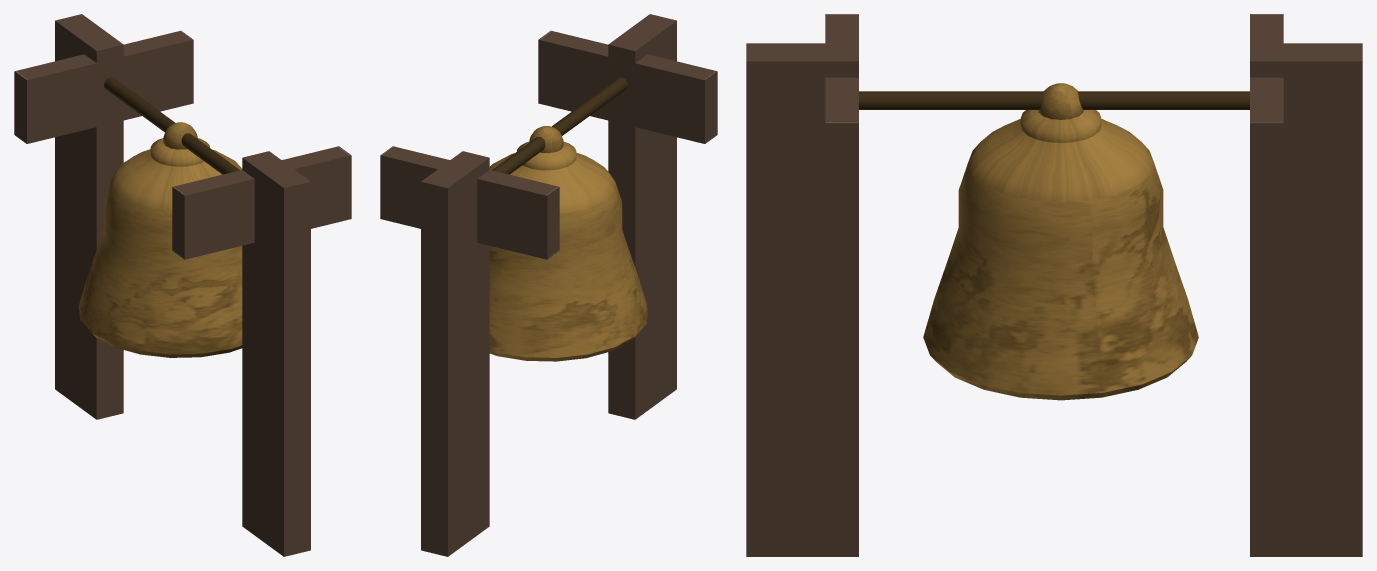
Rendered from BELL 1.obj.
3 renders of one model, left to right at view 1: azimuth 30°, elevation 25°; view 2: azimuth 150°, elevation 25°; view 3: azimuth 270°, elevation 25°, orthographic. The views are drawn at different scales.
Visible parts, largest first — view 1: pCube14_initialShadingGroup; view 2: pCube14_initialShadingGroup; view 3: pCube14_initialShadingGroup.
Boxes of the visible parts, x1=… form: pCube14_initialShadingGroup: x1=14, y1=14, x2=351, y2=556; pCube14_initialShadingGroup: x1=380, y1=14, x2=717, y2=556; pCube14_initialShadingGroup: x1=746, y1=14, x2=1362, y2=556.
Bounding box in the file's own units: 2.96 × 5.87 × 6.61.
1 material, 1 textured.
